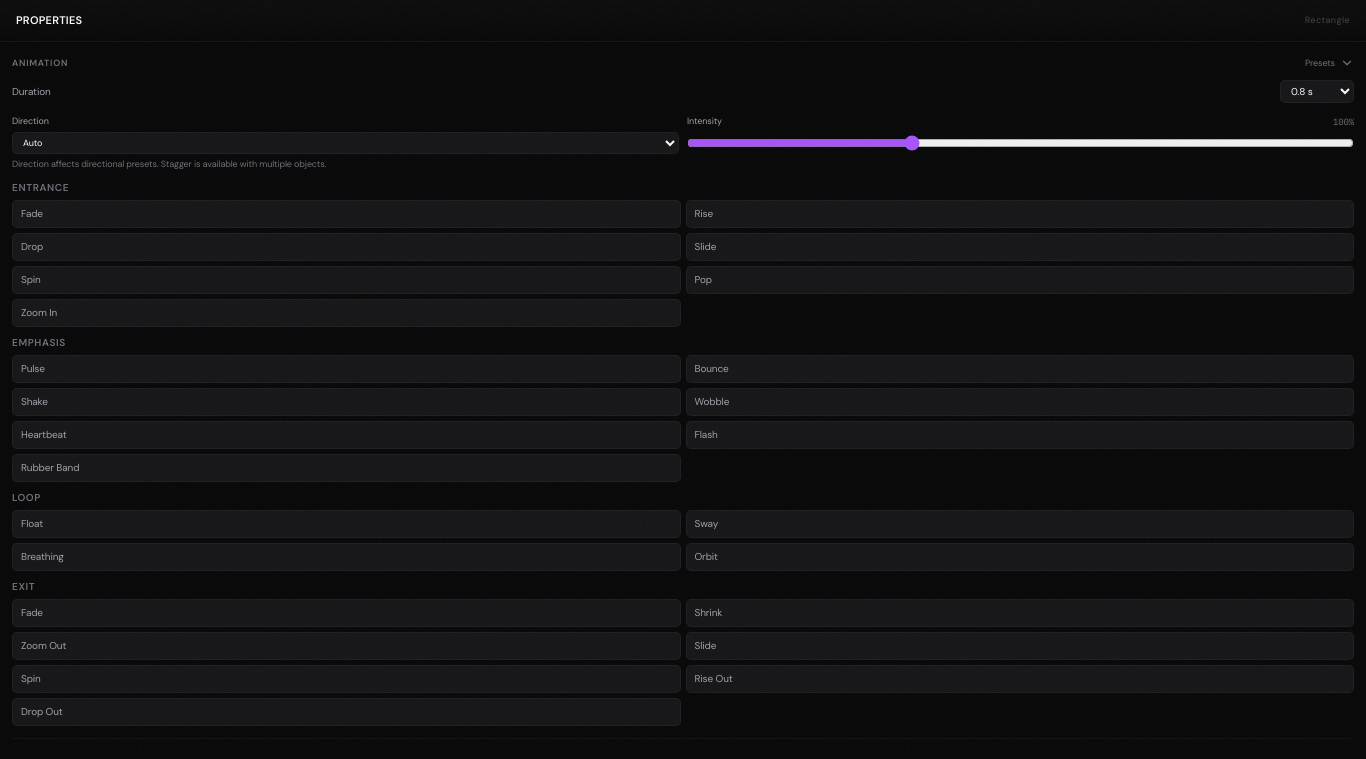
Test: PropertiesPanel › collapses and expands the animation preset controls
This screenshot has width=1366, height=759.
Expected: the button with aria-label "Apply Fade entrance animation" is shown, top-left (12, 200), bottom-right (680, 228)
Click the button with test id "animation-presets-toggle" at (40, 62), box top-left (12, 54), bottom-right (1354, 72)
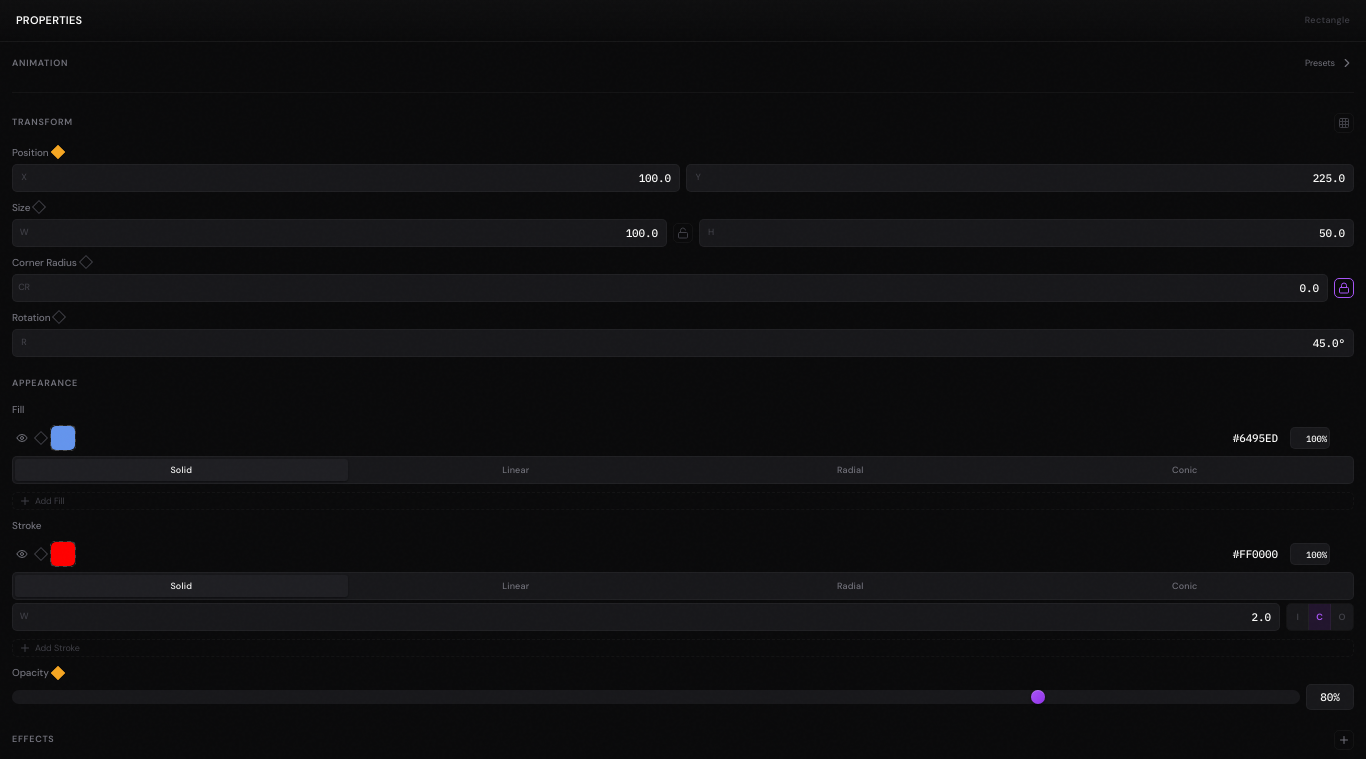
Expected: the button with test id "animation-presets-toggle" is collapsed
Click the button with test id "animation-presets-toggle" at (40, 62), box top-left (12, 54), bottom-right (1354, 72)
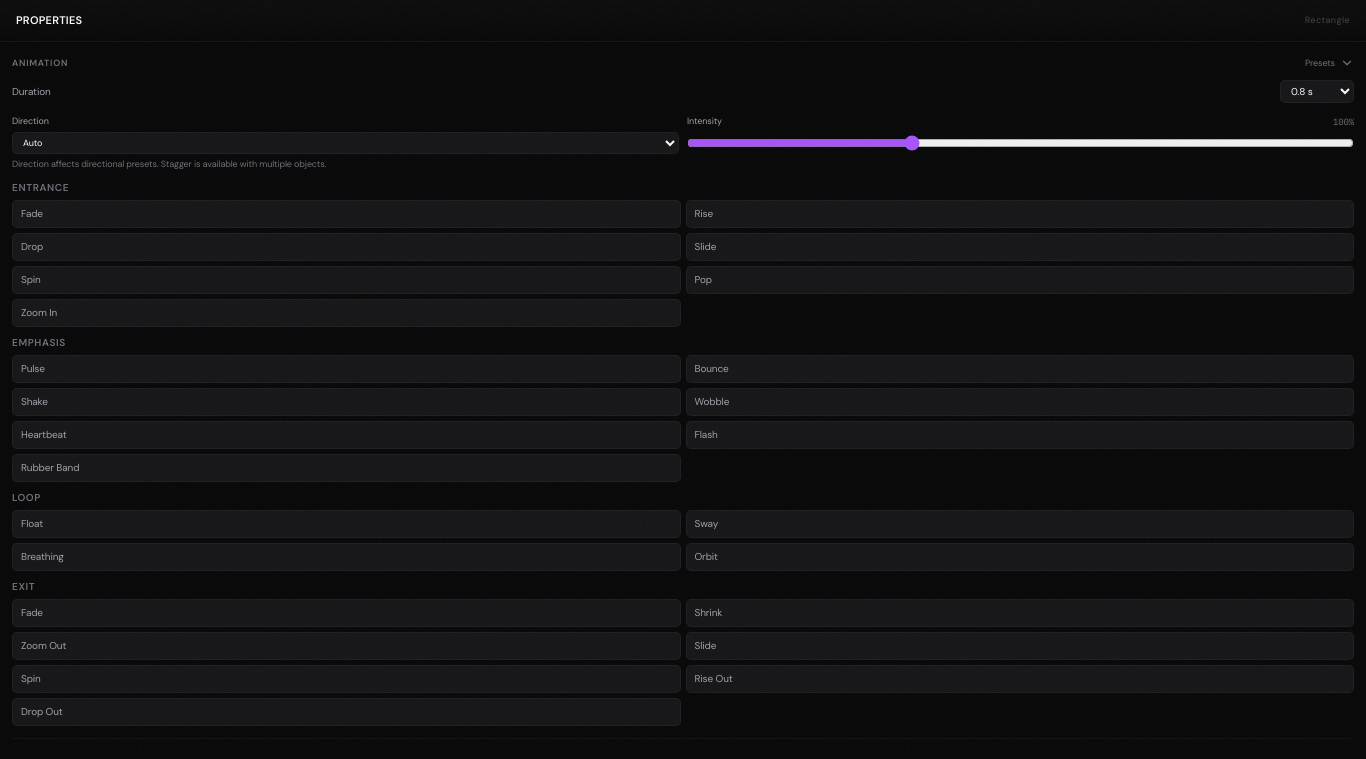
Expected: the button with test id "animation-presets-toggle" is expanded, top-left (12, 54), bottom-right (1354, 72)
Expected: the button with aria-label "Apply Fade entrance animation" is shown, top-left (12, 200), bottom-right (680, 228)
